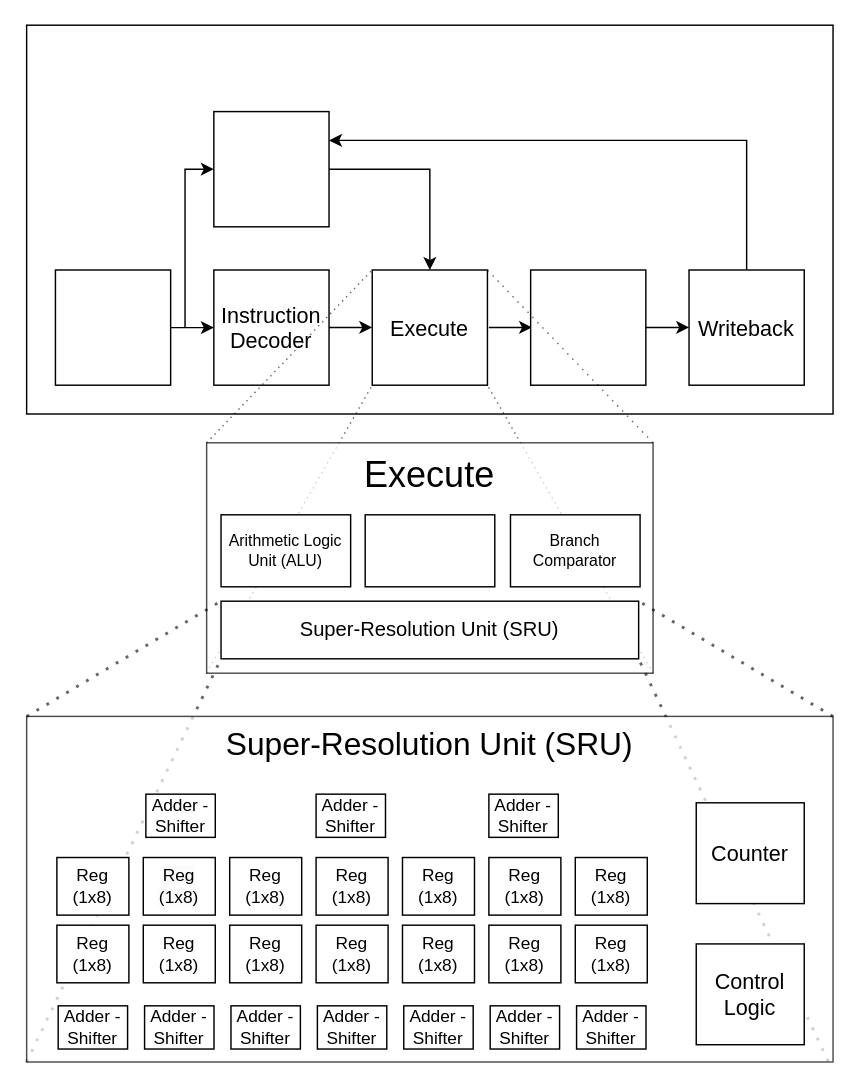
The diagram is 860 pixels wide and 1090 high, and some of its shapes have lost their labels. The shapes that lost their labels are listed below. From the top down, each one's box as (x1, y1, x2, y2) in pixels, then its label:
(212, 110, 329, 227): Register File (32x32)
(25, 24, 833, 414): The Potato Processor
(54, 269, 171, 385): Instruction Memory
(529, 269, 646, 385): Memory Access
(364, 513, 495, 587): CSR ALU
